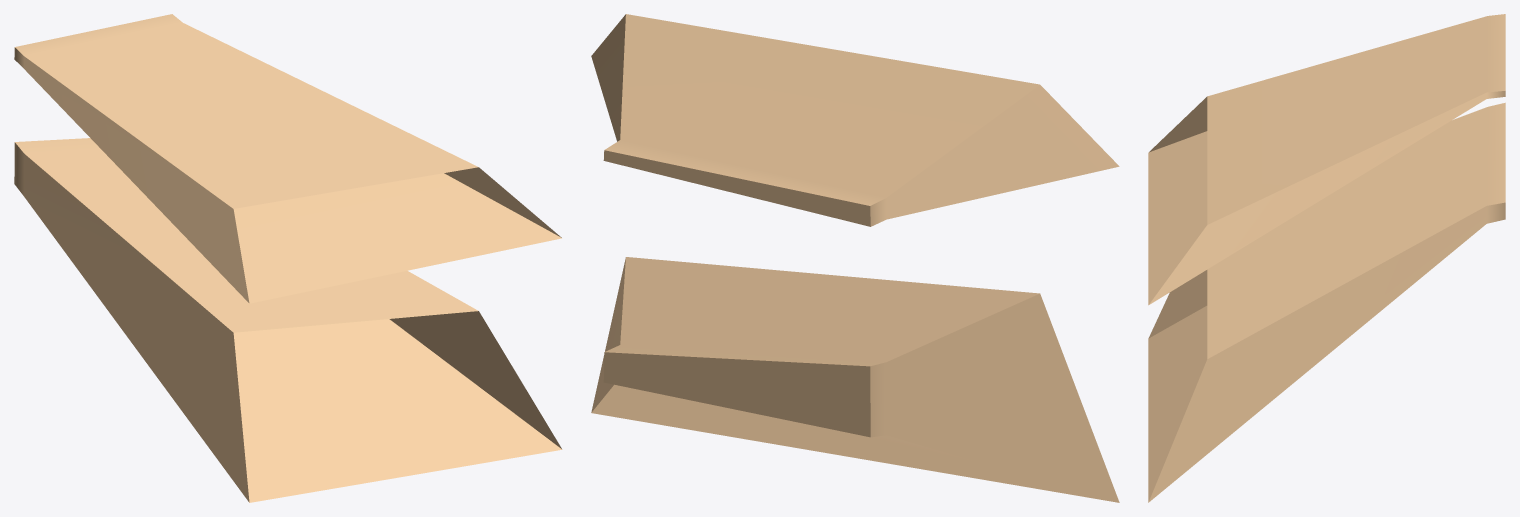
The model's file is AI_FX_LightRay_01.fbx.
3 views of the same model, side by side, from view 1: azimuth 30°, elevation 25°; view 2: azimuth 150°, elevation 25°; view 3: azimuth 270°, elevation 25° (orthographic). The views are drawn at different scales.
Parts seen in each view (by area): view 1: AI_FX_LightRay_01; view 2: AI_FX_LightRay_01; view 3: AI_FX_LightRay_01.
Part boxes in pixels (x1,y1,x2,y2): AI_FX_LightRay_01: (14, 14, 562, 502); AI_FX_LightRay_01: (591, 14, 1119, 502); AI_FX_LightRay_01: (1148, 14, 1505, 502).
Bounding box in the file's own units: 4.47 × 4.19 × 4.15.
